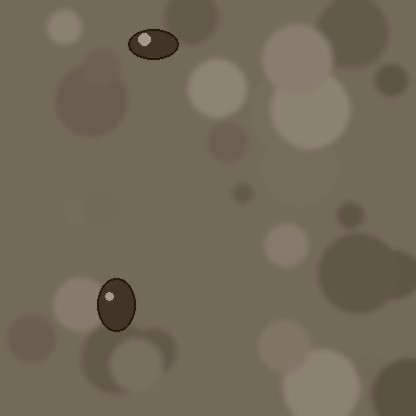gota: (97, 280, 135, 336), (128, 30, 178, 62)
